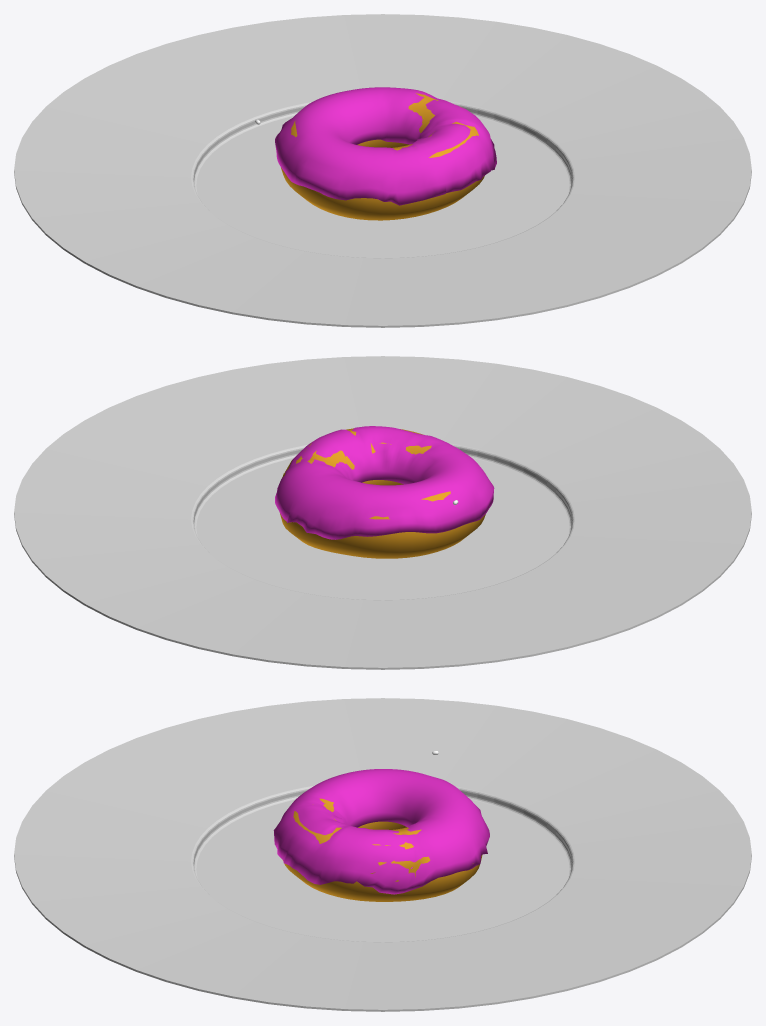
Rendered from blender.glb.
3 renders of one model, top to bottom at view 1: azimuth 30°, elevation 25°; view 2: azimuth 150°, elevation 25°; view 3: azimuth 270°, elevation 25°, orthographic.
Visible parts, largest first — view 1: Circle, Icing, Donut yummmmm; view 2: Circle, Icing, Donut yummmmm; view 3: Circle, Icing, Donut yummmmm.
Boxes of the visible parts, x1,y1,x2,y2 form: Circle: (14,14,751,327); Icing: (275,87,496,205); Donut yummmmm: (281,93,484,220); Circle: (14,356,751,669); Icing: (275,426,494,539); Donut yummmmm: (280,428,485,558); Circle: (14,698,751,1011); Icing: (273,769,489,894); Donut yummmmm: (283,798,482,901).
Size of what is drawn, in the model's own units: 0.351 by 0.038 by 0.351.
